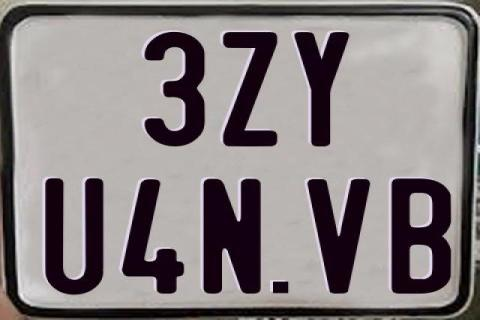0: (144, 32, 210, 146), (120, 178, 184, 294)
B: (392, 179, 452, 295)
N: (200, 177, 264, 295)
U: (42, 178, 100, 300)
V: (306, 179, 374, 295)
Y: (294, 32, 353, 148)
Z: (220, 31, 279, 148)
